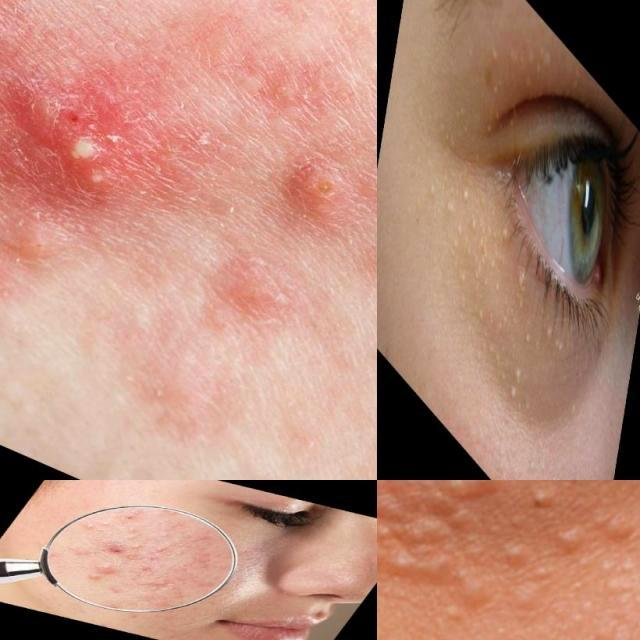Pimples: (406, 137, 594, 480), (377, 480, 581, 625), (0, 54, 151, 228), (262, 158, 345, 239), (508, 10, 552, 108), (132, 578, 170, 598), (76, 568, 108, 586), (142, 544, 170, 562), (96, 542, 125, 556)
